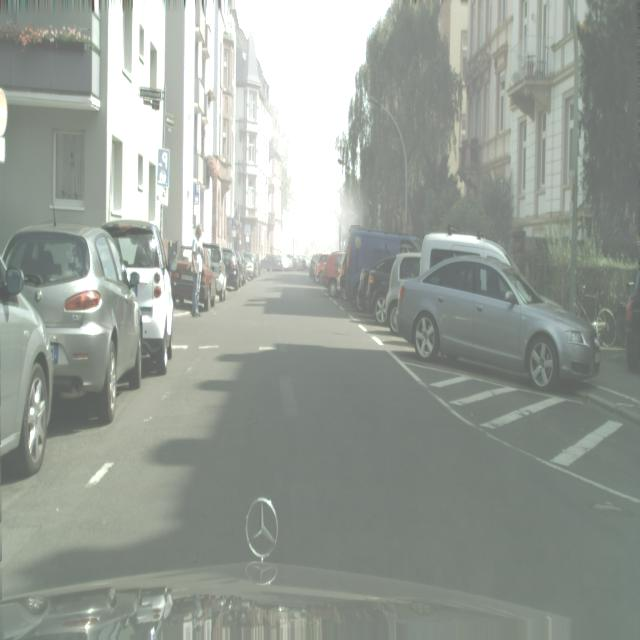bus: (192, 222, 205, 319)
car: (339, 226, 421, 305)
person: (395, 250, 600, 391), (0, 224, 143, 426), (0, 257, 54, 479), (102, 218, 174, 375), (170, 243, 215, 311), (384, 252, 421, 331), (626, 269, 640, 372), (203, 243, 227, 300), (323, 252, 345, 298), (222, 249, 246, 290), (308, 252, 330, 282), (260, 252, 288, 272), (242, 252, 256, 280)
